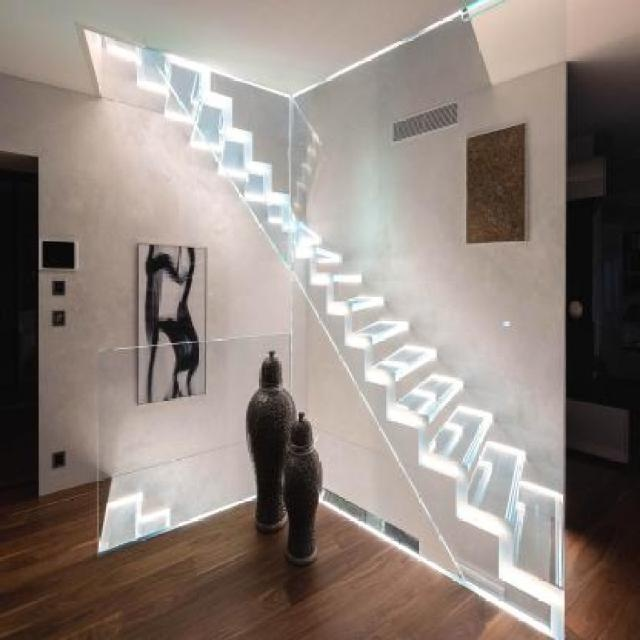stair: (298, 92, 588, 608), (143, 45, 294, 238)
